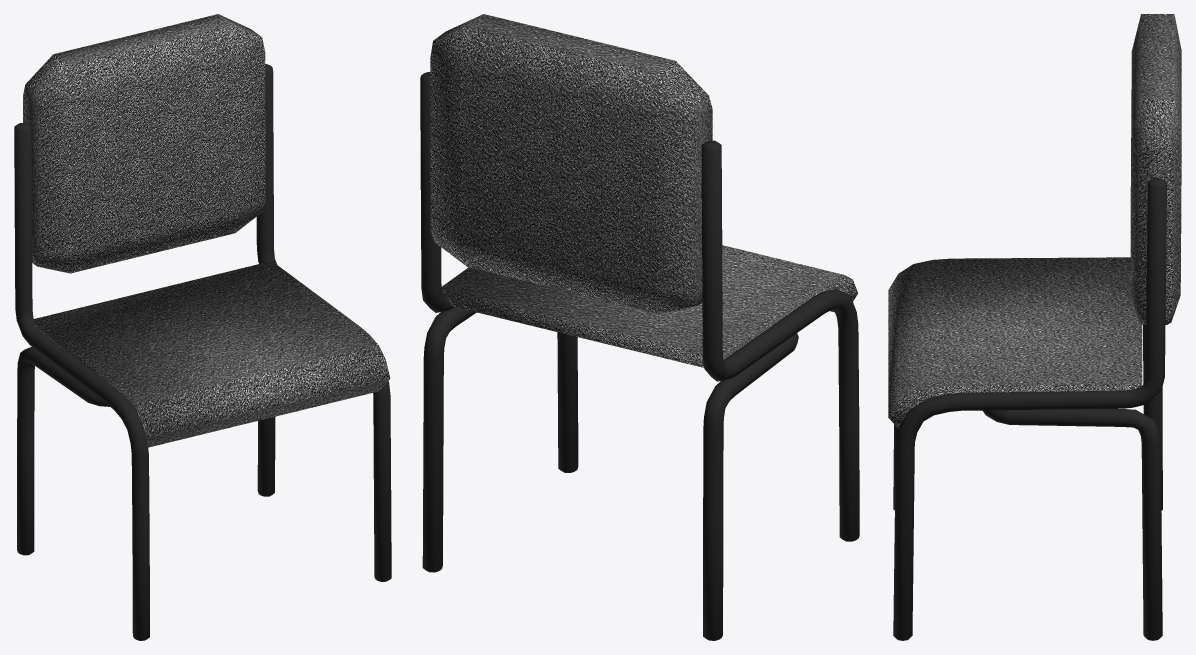
The model's file is chair_2.fbx.
3 renders of one model, left to right at view 1: azimuth 30°, elevation 25°; view 2: azimuth 150°, elevation 25°; view 3: azimuth 270°, elevation 25°, orthographic. The views are drawn at different scales.
Parts seen in each view (by area): view 1: chair_2; view 2: chair_2; view 3: chair_2.
Boxes of the visible parts, box(x1,y1,x2,y2) form: chair_2: box(14, 14, 391, 640); chair_2: box(420, 14, 859, 640); chair_2: box(888, 14, 1181, 640).
Bounding box in the file's own units: 1.01 × 1.81 × 0.9299.
